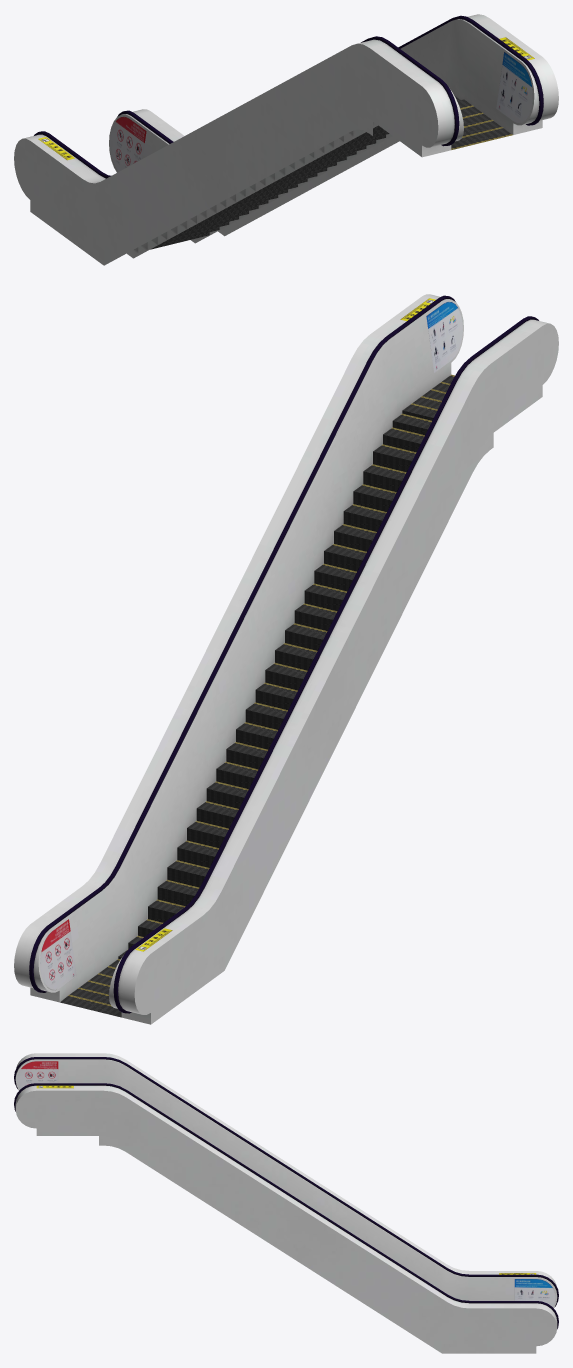
3 renders of one model, top to bottom at view 1: azimuth 30°, elevation 25°; view 2: azimuth 150°, elevation 25°; view 3: azimuth 270°, elevation 25°, orthographic. The views are drawn at different scales.
Visible parts, largest first — view 1: 扶梯; view 2: 扶梯; view 3: 扶梯.
Part boxes in pixels (<box>): 扶梯: <box>14,14,558,265</box>; 扶梯: <box>14,294,558,1024</box>; 扶梯: <box>14,1053,558,1353</box>.
Bounding box in the file's own units: 1.95 × 6.4 × 11.96.
1 material, 1 textured.
